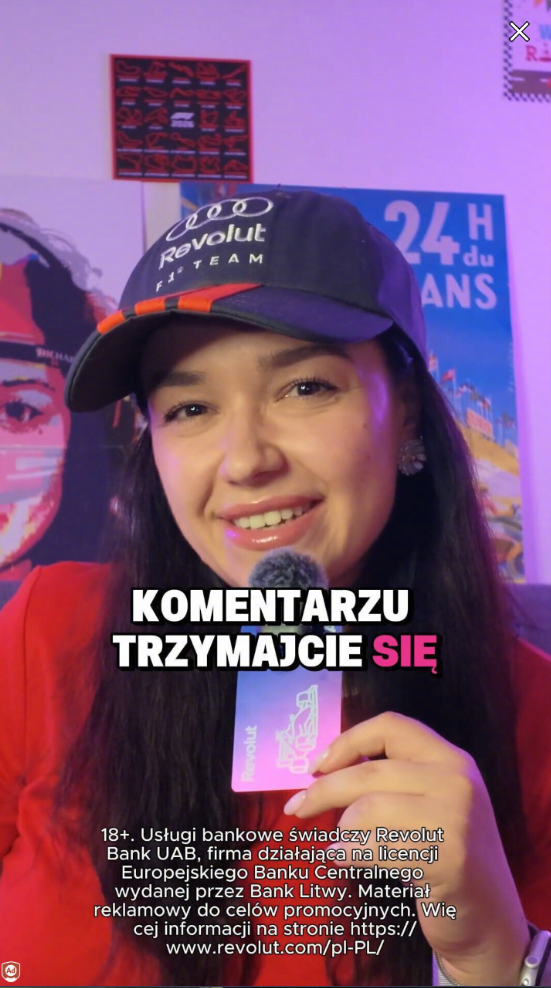close_button: (503, 16, 533, 47)
